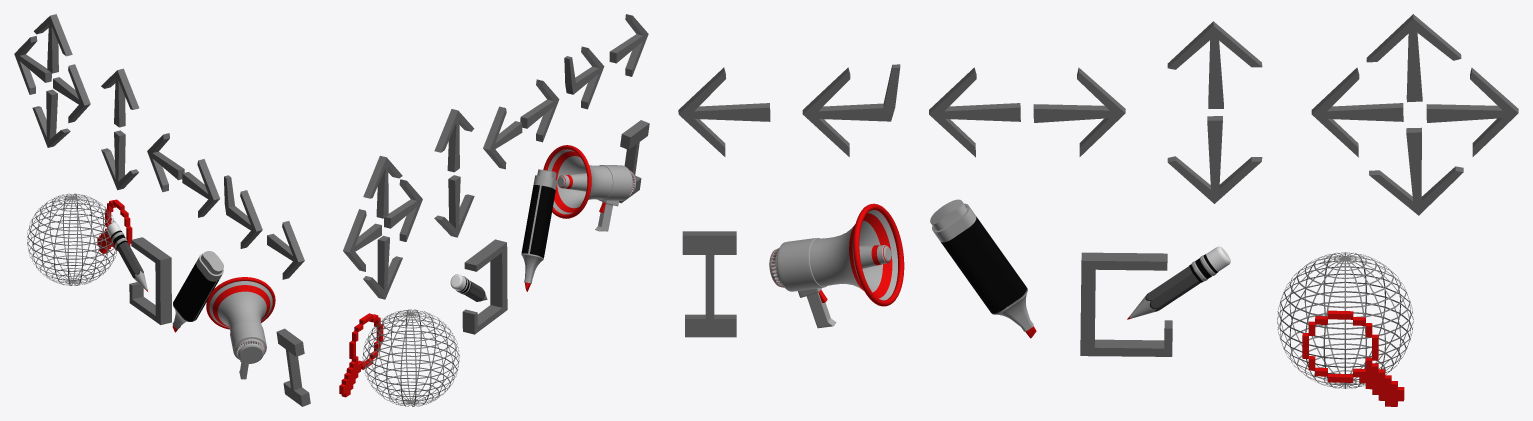
Rendered from hypothesis_2_ICONS.ma.fbx.
3 views of the same model, side by side, from view 1: azimuth 30°, elevation 25°; view 2: azimuth 150°, elevation 25°; view 3: azimuth 270°, elevation 25° (orthographic). The views are drawn at different scales.
Visible parts, largest first — view 1: MAGNIFAYING_GLASS1, MEGAPHONE, ALL_DIRECTIONS_ARROW, PENCIL, MARKER, UP_DOWN_ARROW, LATERAL_ARROW3, SPACE_BAR_TYPE, ARROW_IN, ARROW_BASIC; view 2: MAGNIFAYING_GLASS1, MEGAPHONE, ALL_DIRECTIONS_ARROW, PENCIL, MARKER, UP_DOWN_ARROW, LATERAL_ARROW3, ARROW_IN, ARROW_BASIC, SPACE_BAR_TYPE; view 3: MAGNIFAYING_GLASS1, ALL_DIRECTIONS_ARROW, MEGAPHONE, PENCIL, MARKER, LATERAL_ARROW3, UP_DOWN_ARROW, SPACE_BAR_TYPE, ARROW_IN, ARROW_BASIC.
Boxes of the visible parts, bbox=[...] form: MAGNIFAYING_GLASS1: bbox=[27, 193, 132, 285]; MEGAPHONE: bbox=[206, 277, 275, 379]; ALL_DIRECTIONS_ARROW: bbox=[14, 14, 90, 147]; PENCIL: bbox=[107, 222, 171, 324]; MARKER: bbox=[172, 251, 223, 332]; UP_DOWN_ARROW: bbox=[101, 68, 139, 190]; LATERAL_ARROW3: bbox=[147, 133, 220, 217]; SPACE_BAR_TYPE: bbox=[276, 328, 310, 406]; ARROW_IN: bbox=[224, 175, 262, 248]; ARROW_BASIC: bbox=[267, 221, 304, 279]; MAGNIFAYING_GLASS1: bbox=[339, 309, 459, 406]; MEGAPHONE: bbox=[543, 145, 635, 231]; ALL_DIRECTIONS_ARROW: bbox=[343, 155, 422, 299]; PENCIL: bbox=[450, 239, 507, 334]; MARKER: bbox=[521, 169, 557, 291]; UP_DOWN_ARROW: bbox=[434, 109, 474, 237]; LATERAL_ARROW3: bbox=[483, 79, 559, 169]; ARROW_IN: bbox=[564, 46, 604, 109]; ARROW_BASIC: bbox=[609, 14, 648, 76]; SPACE_BAR_TYPE: bbox=[619, 120, 649, 203]; MAGNIFAYING_GLASS1: bbox=[1277, 252, 1413, 406]; ALL_DIRECTIONS_ARROW: bbox=[1311, 14, 1518, 215]; MEGAPHONE: bbox=[769, 203, 904, 328]; PENCIL: bbox=[1080, 246, 1230, 356]; MARKER: bbox=[930, 199, 1036, 338]; LATERAL_ARROW3: bbox=[929, 67, 1125, 157]; UP_DOWN_ARROW: bbox=[1167, 21, 1262, 203]; SPACE_BAR_TYPE: bbox=[682, 231, 736, 337]; ARROW_IN: bbox=[802, 64, 900, 156]; ARROW_BASIC: bbox=[678, 67, 770, 156].
Size of the model in its own units: 3.2 by 8.61 by 17.79.
